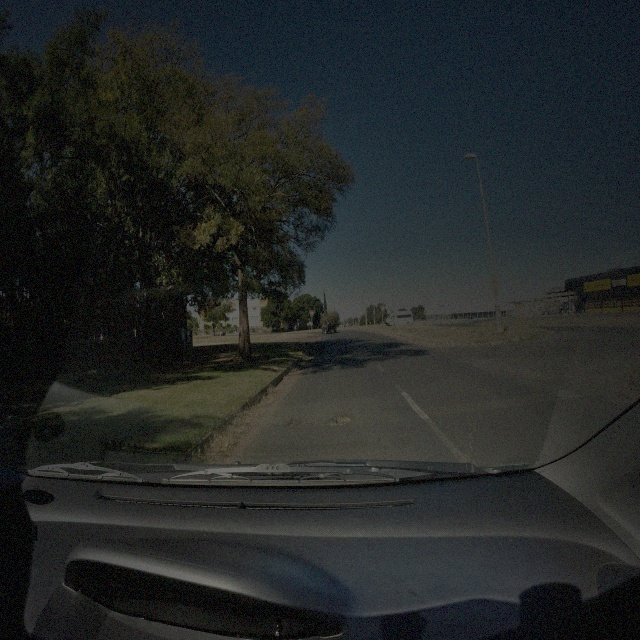pothole: (331, 412, 351, 427)
